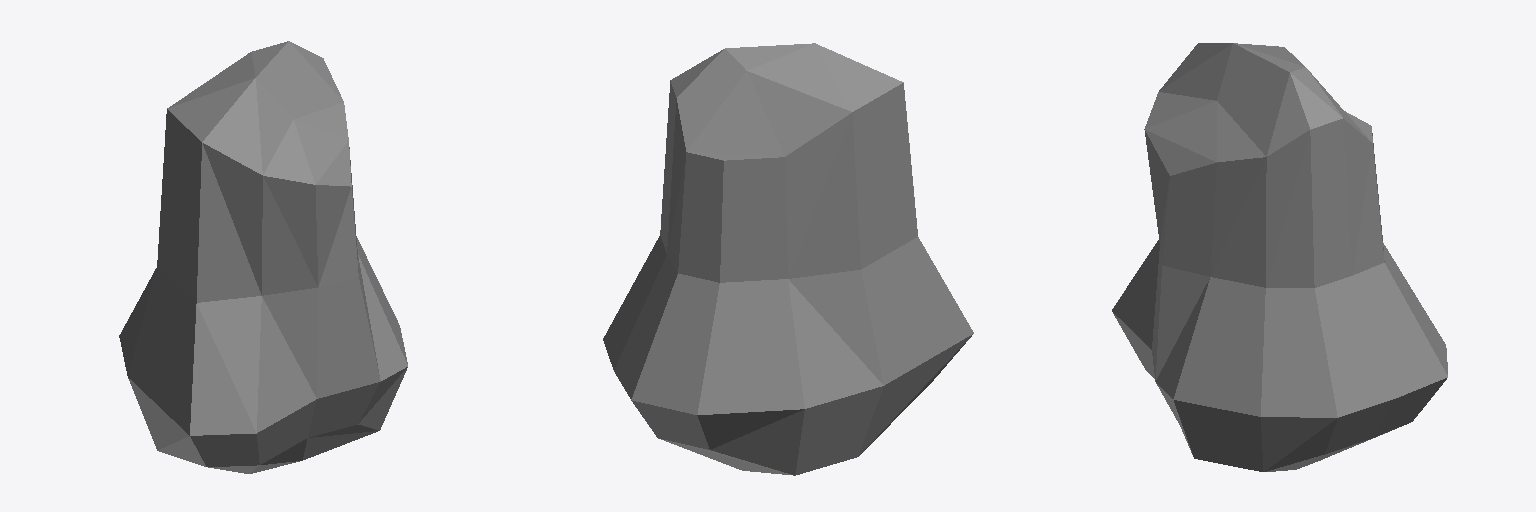
File: roca1.obj
3 views of the same model, side by side, from view 1: azimuth 30°, elevation 25°; view 2: azimuth 150°, elevation 25°; view 3: azimuth 270°, elevation 25° (orthographic).
Visible parts, largest first — view 1: Stone_big_001_Mesh.010; view 2: Stone_big_001_Mesh.010; view 3: Stone_big_001_Mesh.010.
Boxes of the visible parts, x1,y1,x2,y2 form: Stone_big_001_Mesh.010: [119, 41, 407, 473]; Stone_big_001_Mesh.010: [603, 43, 973, 475]; Stone_big_001_Mesh.010: [1112, 43, 1447, 471].
Bounding box in the file's own units: 2.68 × 3.8 × 2.87.